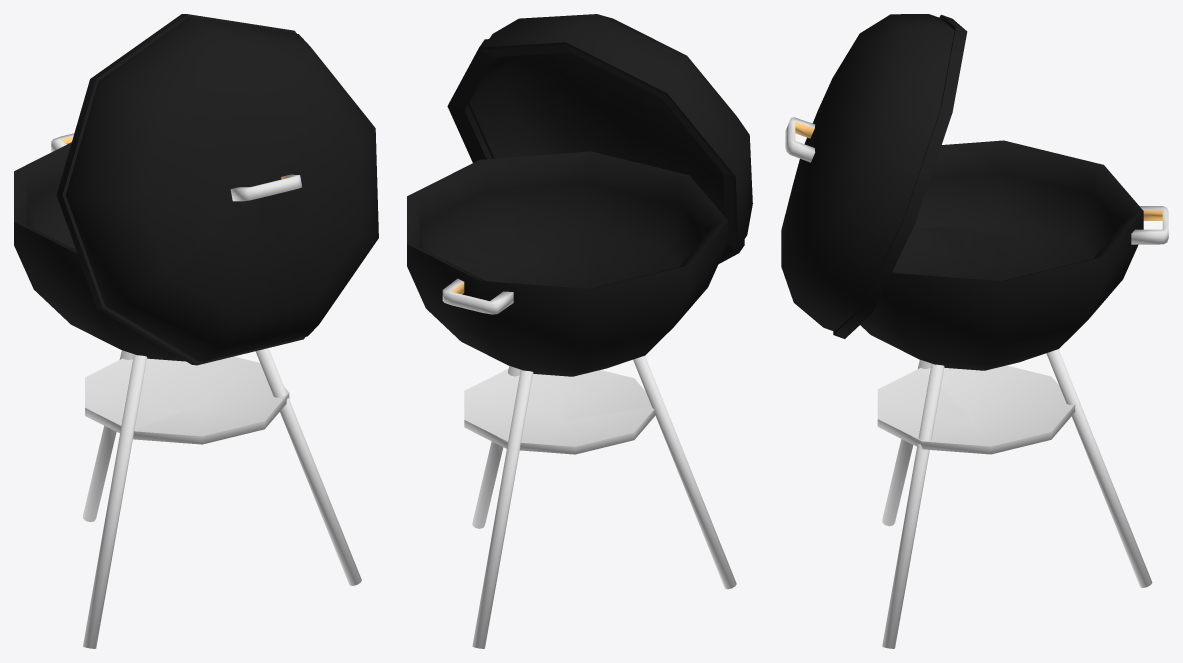
The model's file is PortableBarbecueGrillOpened.glb.
3 views of the same model, side by side, from view 1: azimuth 30°, elevation 25°; view 2: azimuth 150°, elevation 25°; view 3: azimuth 270°, elevation 25° (orthographic). The views are drawn at different scales.
Visible parts, largest first — view 1: PortableBarbecueGrillOpened; view 2: PortableBarbecueGrillOpened; view 3: PortableBarbecueGrillOpened.
Boxes of the visible parts, x1,y1,x2,y2 form: PortableBarbecueGrillOpened: [14, 14, 378, 648]; PortableBarbecueGrillOpened: [407, 14, 752, 648]; PortableBarbecueGrillOpened: [781, 14, 1168, 648].
Size of the model in its own units: 0.7781 by 1.42 by 0.8859.
Materials: 1 (1 with a texture image).
